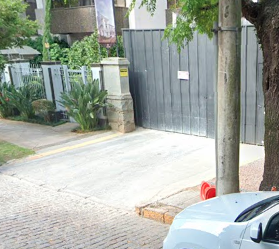vag91: (1, 158, 136, 224)
